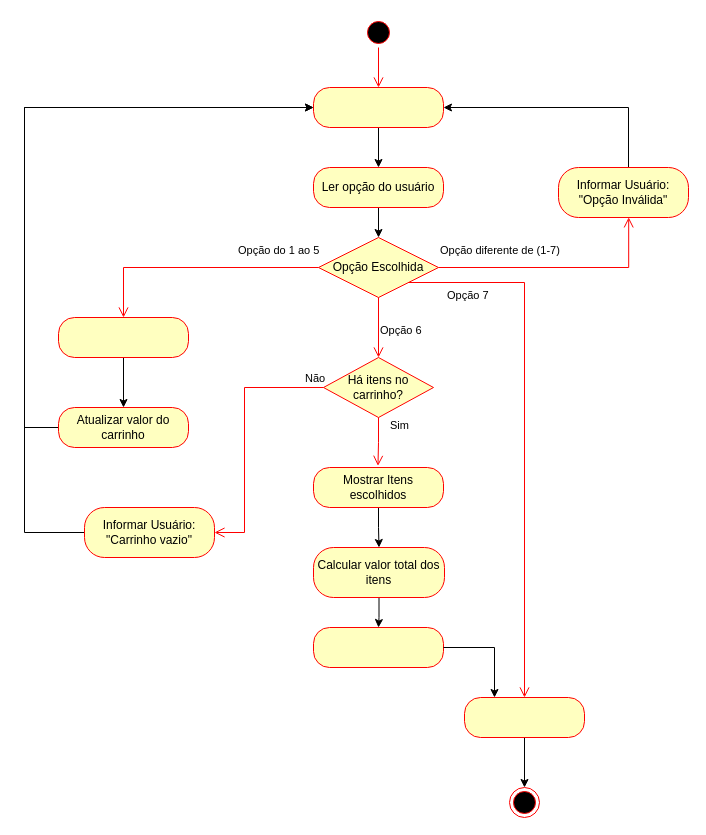
The diagram is 706 pixels wide and 835 high, and some of its shapes have lost their labels. The shapes that lost their labels are listed below. From the top down, each one's box as (x1, y1, x2, y2) in pixels, then its label:
(312, 86, 444, 128): Exibir menu da loja
(58, 316, 188, 358): Adicionar poção ao carrinho
(312, 626, 444, 668): Exibir status da compra
(464, 696, 584, 738): Sair da loja
